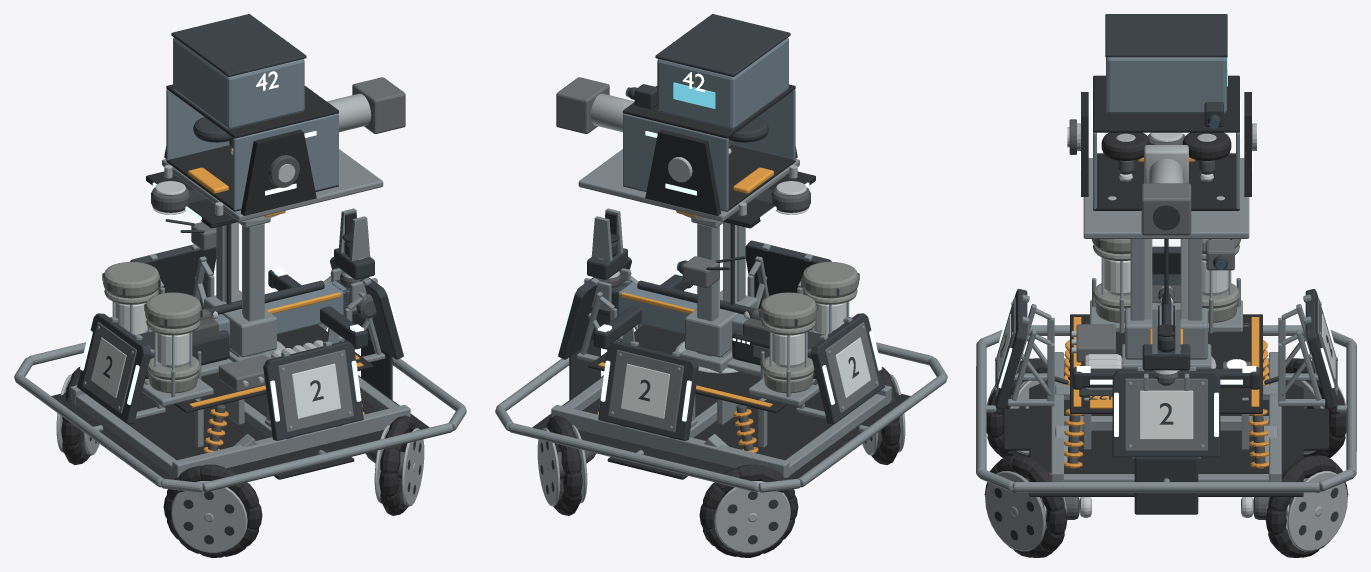
The model's file is robot-2713-spec2027.glb.
The picture shows the model from 3 angles, left to right: view 1: azimuth 30°, elevation 25°; view 2: azimuth 150°, elevation 25°; view 3: azimuth 270°, elevation 25°; orthographic projection. The views are drawn at different scales.
Visible parts, largest first — view 1: Chassis_RobotMatteAluminum, GunPitch_TeamPrimaryShell, Chassis_CarbonPlate, GunPitch_RobotMatteGraphite, LauncherModule_CarbonPlate, GunPitch_CarbonPlate, Wheel_0_MachinedAlloy, Chassis_RobotMatteGraphite, CarriedUnit_0_ProtectiveMetal, ArmSlew_RobotMatteAluminum, ArmorModuleBody.003, ArmorHitFace.003 (+30 smaller); view 2: Chassis_RobotMatteAluminum, GunPitch_TeamPrimaryShell, Chassis_CarbonPlate, GunPitch_RobotMatteGraphite, LauncherModule_CarbonPlate, Wheel_1_MachinedAlloy, GunPitch_CarbonPlate, CarriedUnit_1_ProtectiveMetal, Chassis_RobotMatteGraphite, ArmSlew_RobotMatteAluminum, ArmorModuleBody.001, ArmorHitFace.001 (+29 smaller); view 3: Chassis_RobotMatteAluminum, Chassis_CarbonPlate, GunPitch_CarbonPlate, GunPitch_TeamPrimaryShell, GunPitch_RobotMatteGraphite, Chassis_RobotMatteGraphite, ModuleCradlePlate, ArmorHitFace, Wheel_2_MachinedAlloy, Wheel_3_MachinedAlloy, ArmSlew_RobotMatteAluminum, ArmorModuleBody (+31 smaller).
Part boxes in pixels (x1,y1,x2,y2): Chassis_RobotMatteAluminum: (14,327,466,492); GunPitch_TeamPrimaryShell: (166,37,338,210); Chassis_CarbonPlate: (51,325,429,492); GunPitch_RobotMatteGraphite: (171,14,306,142); LauncherModule_CarbonPlate: (164,129,316,215); GunPitch_CarbonPlate: (166,84,338,211); Wheel_0_MachinedAlloy: (171,481,247,552); Chassis_RobotMatteGraphite: (139,270,392,399); CarriedUnit_0_ProtectiveMetal: (145,292,201,393); ArmSlew_RobotMatteAluminum: (216,218,276,362); ArmorModuleBody.003: (263,341,363,440); ArmorHitFace.003: (278,350,353,432); Chassis_RobotMatteAluminum: (495,327,947,492); GunPitch_TeamPrimaryShell: (623,37,795,210); Chassis_CarbonPlate: (532,325,910,492); GunPitch_RobotMatteGraphite: (628,14,790,142); LauncherModule_CarbonPlate: (645,129,797,215); Wheel_1_MachinedAlloy: (714,481,790,552); GunPitch_CarbonPlate: (623,84,795,211); CarriedUnit_1_ProtectiveMetal: (760,292,816,393); Chassis_RobotMatteGraphite: (569,274,822,399); ArmSlew_RobotMatteAluminum: (680,218,745,372); ArmorModuleBody.001: (598,341,698,440); ArmorHitFace.001: (608,350,683,432); Chassis_RobotMatteAluminum: (976,278,1356,492); Chassis_CarbonPlate: (1003,314,1329,496); GunPitch_CarbonPlate: (1093,75,1239,210); GunPitch_TeamPrimaryShell: (1093,57,1239,210); GunPitch_RobotMatteGraphite: (1105,14,1227,230); Chassis_RobotMatteGraphite: (1039,274,1293,514); ModuleCradlePlate: (1083,158,1249,238); ArmorHitFace: (1125,378,1207,450); Wheel_2_MachinedAlloy: (985,471,1066,551); Wheel_3_MachinedAlloy: (1266,471,1347,551); ArmSlew_RobotMatteAluminum: (1121,239,1211,368); ArmorModuleBody: (1112,370,1220,457).
Size of the model in its own units: 0.5985 by 0.817 by 0.5969.
